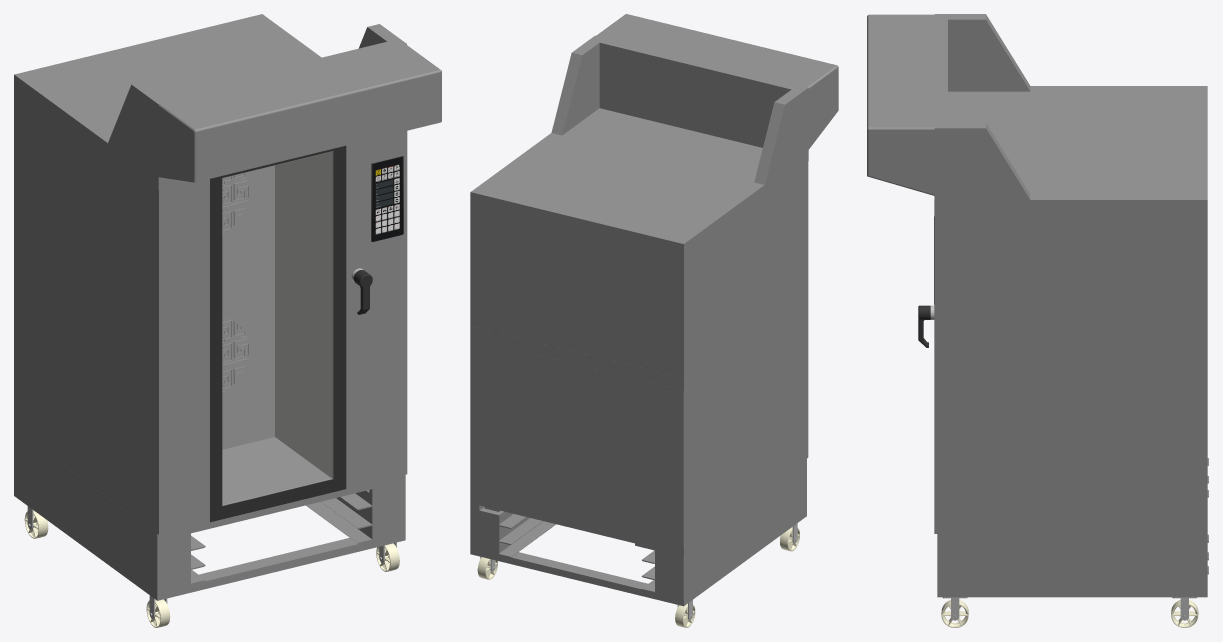
3 views of the same model, side by side, from view 1: azimuth 30°, elevation 25°; view 2: azimuth 150°, elevation 25°; view 3: azimuth 270°, elevation 25° (orthographic). The views are drawn at different scales.
Parts seen in each view (by area): view 1: YR-1010B.001, YR-1010B.002, YR-1010B.003, YR-1010B.006, YR-1010B.005, PANEL HORNO YR1010, YR-1010B.008, YR-1010B.004; view 2: YR-1010B.001, YR-1010B.003, YR-1010B.008; view 3: YR-1010B.001, YR-1010B.008, YR-1010B.009.
Boxes of the visible parts, x1=… form: YR-1010B.001: x1=14, y1=14, x2=441, y2=600; YR-1010B.002: x1=222, y1=151, x2=333, y2=505; YR-1010B.003: x1=191, y1=165, x2=372, y2=584; YR-1010B.006: x1=210, y1=145, x2=372, y2=522; YR-1010B.005: x1=222, y1=140, x2=369, y2=483; PANEL HORNO YR1010: x1=372, y1=157, x2=402, y2=241; YR-1010B.008: x1=24, y1=510, x2=399, y2=627; YR-1010B.004: x1=222, y1=173, x2=248, y2=391; YR-1010B.001: x1=470, y1=14, x2=838, y2=606; YR-1010B.003: x1=498, y1=159, x2=699, y2=592; YR-1010B.008: x1=477, y1=527, x2=799, y2=627; YR-1010B.001: x1=867, y1=14, x2=1207, y2=597; YR-1010B.008: x1=941, y1=600, x2=1198, y2=627; YR-1010B.009: x1=942, y1=597, x2=1197, y2=620.
Bounding box in the file's own units: 1 × 2.05 × 1.27.
Materials: 8 (1 with a texture image).
